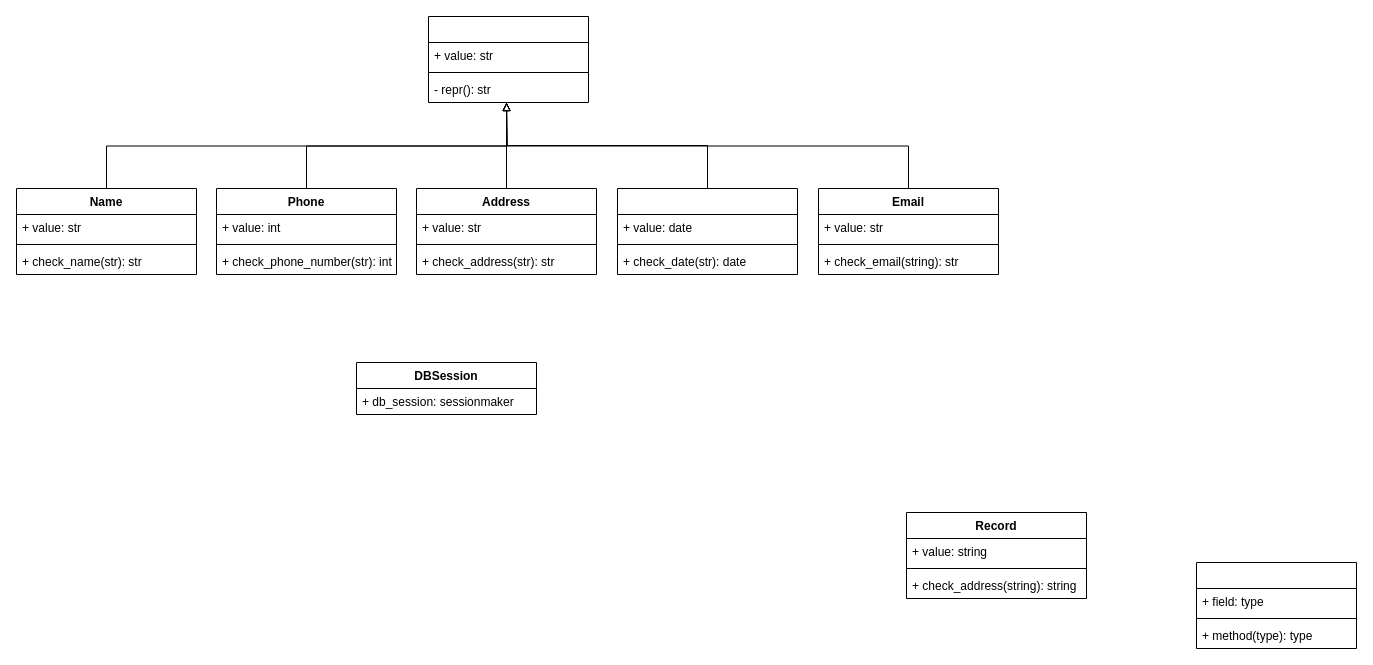
Image size: 1373x665. Some labels were removed from this diagram. The shapes that lost their labels are listed below. From the top down, each one's box as (x1, y1, x2, y2) in pixels, then its label:
(428, 16, 588, 102): Field
(616, 188, 798, 274): Birthday
(1196, 562, 1356, 648): AddressBook
